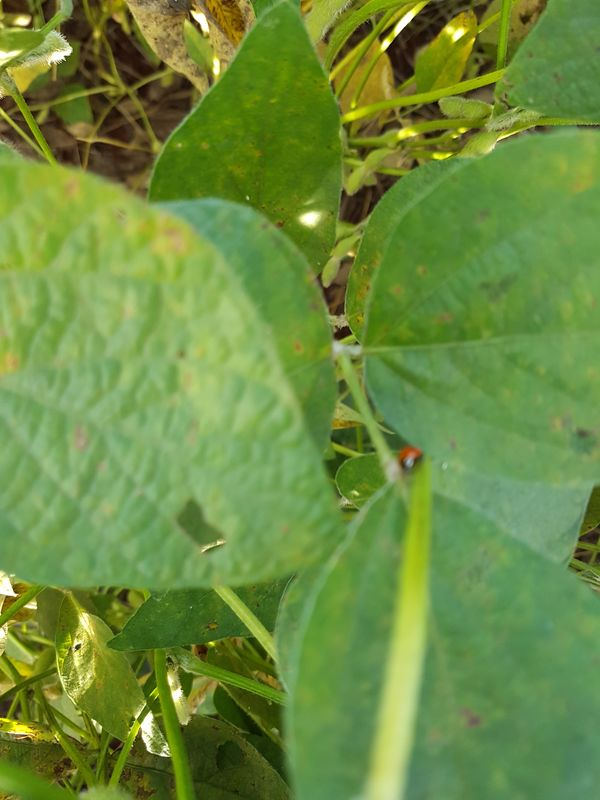Coccinellidae: (380, 434, 437, 480)
